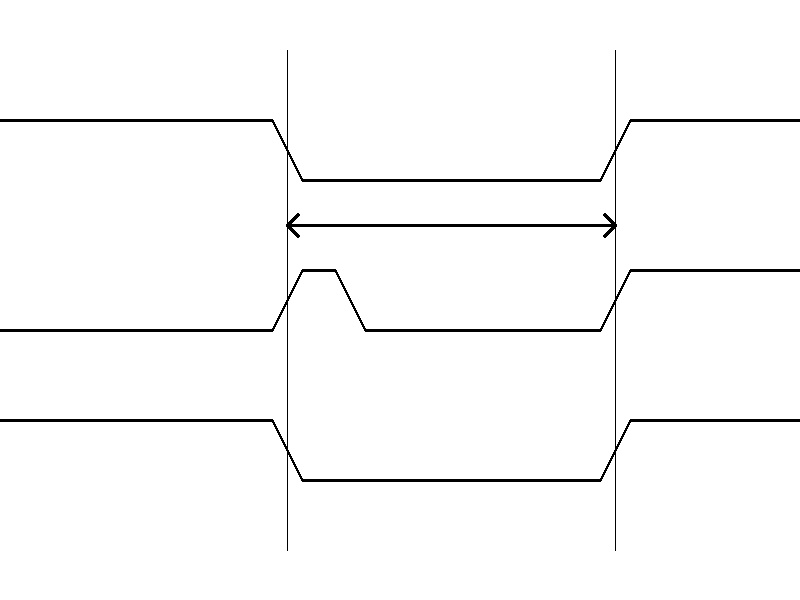double_arrow: (287, 210, 615, 240)
